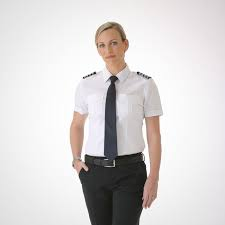F_belt: (81, 150, 149, 171)
F_shirt: (71, 67, 171, 154)
F_tie: (102, 74, 119, 158)
